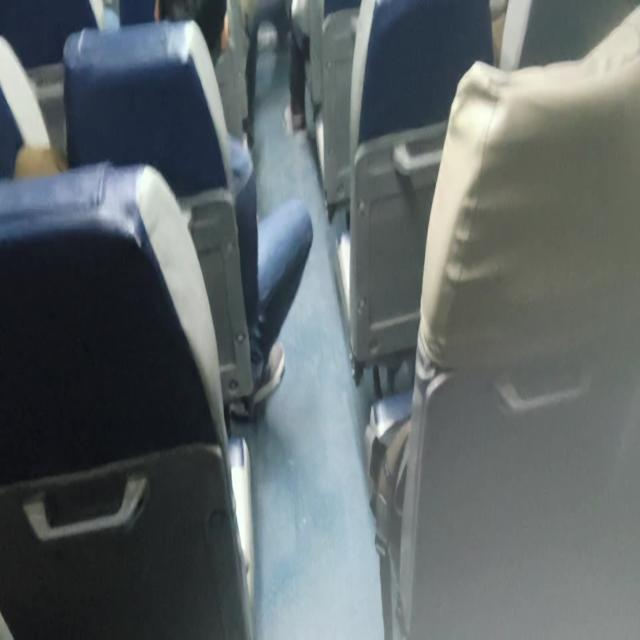person: (156, 0, 236, 94)
